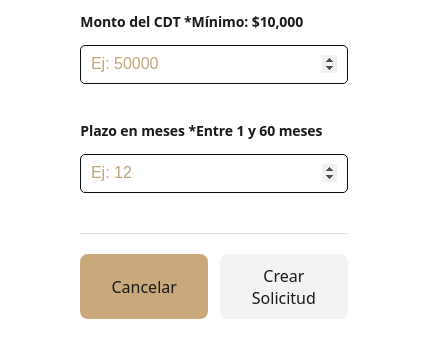
it: SolicitudForm Component › muestra errores cuando los campos están vacíos
Click the button "Crear Solicitud".
click(284, 287)  # box left=220, top=254, right=348, bottom=319
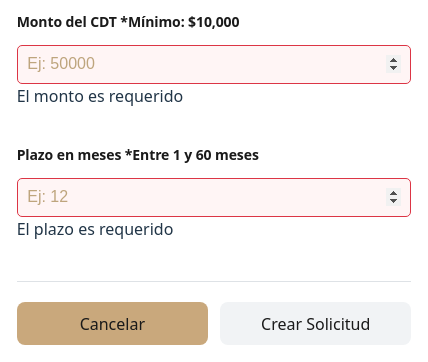
Expected: the text "El monto es requerido" is shown, left=17, top=85, right=183, bottom=107
Expected: the text "El plazo es requerido" is shown, left=17, top=218, right=173, bottom=240
